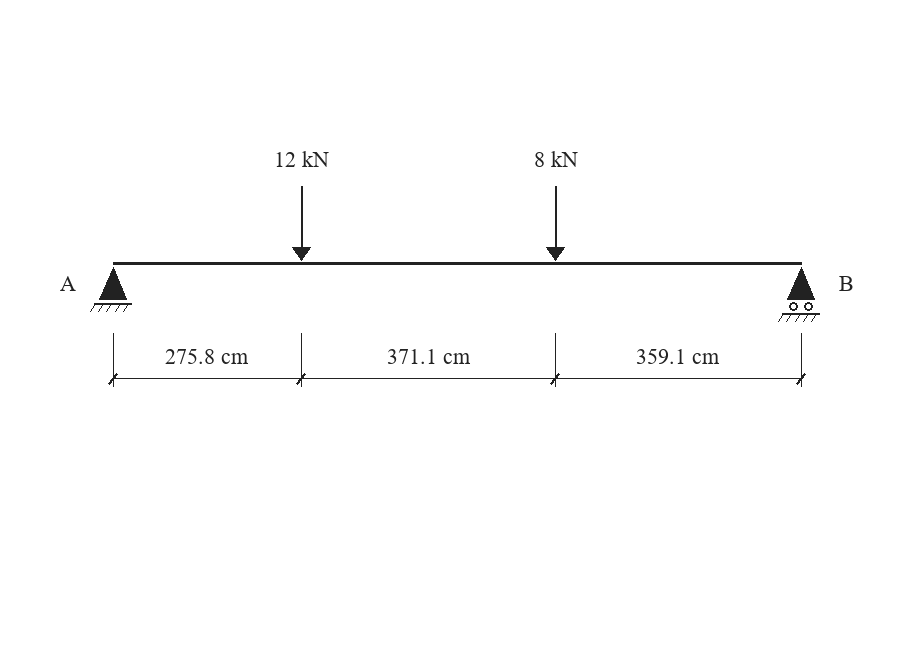pin_support: (90, 267, 132, 312)
point_load: (292, 186, 311, 261), (546, 186, 565, 261)
roller_support: (778, 267, 820, 322)
